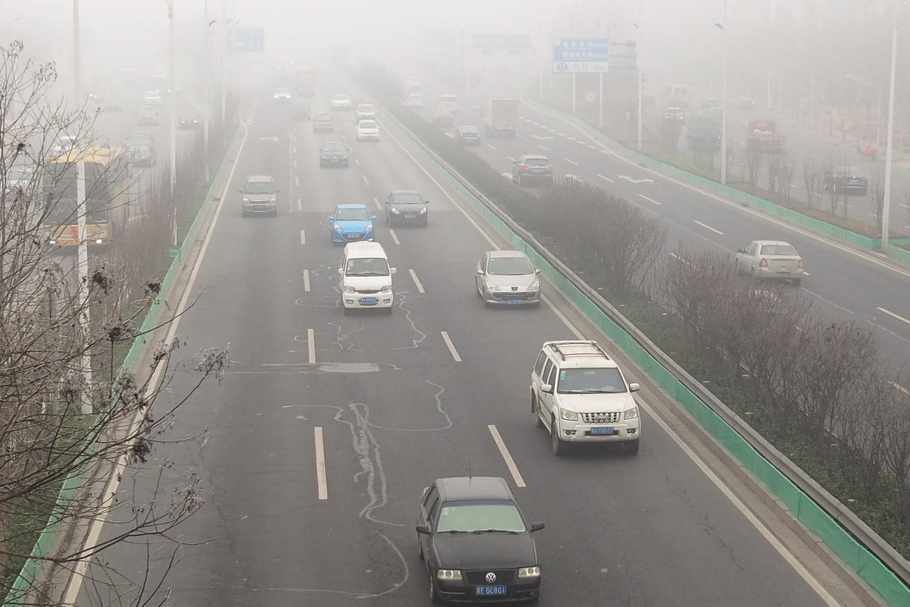bus: (37, 144, 131, 250), (683, 115, 729, 150), (481, 97, 520, 138), (742, 119, 787, 154), (295, 70, 318, 97), (667, 84, 691, 107), (291, 102, 314, 121), (177, 112, 202, 129)
car: (412, 476, 547, 607), (526, 338, 643, 459), (336, 241, 397, 309), (474, 249, 544, 307), (735, 240, 806, 287), (327, 203, 379, 247), (238, 172, 282, 217), (382, 190, 431, 229), (511, 153, 554, 188), (2, 168, 39, 206), (121, 131, 157, 170), (823, 163, 864, 196), (53, 135, 84, 168), (317, 140, 351, 166), (353, 120, 383, 141), (136, 104, 161, 128), (455, 125, 481, 148), (311, 111, 335, 133), (429, 107, 454, 126), (354, 102, 379, 121), (101, 96, 125, 115), (663, 107, 687, 125), (328, 93, 353, 110), (438, 94, 458, 111), (699, 95, 721, 110), (403, 93, 423, 109), (735, 95, 757, 109), (273, 86, 291, 103), (639, 91, 656, 107), (143, 89, 162, 103), (406, 77, 420, 92)
